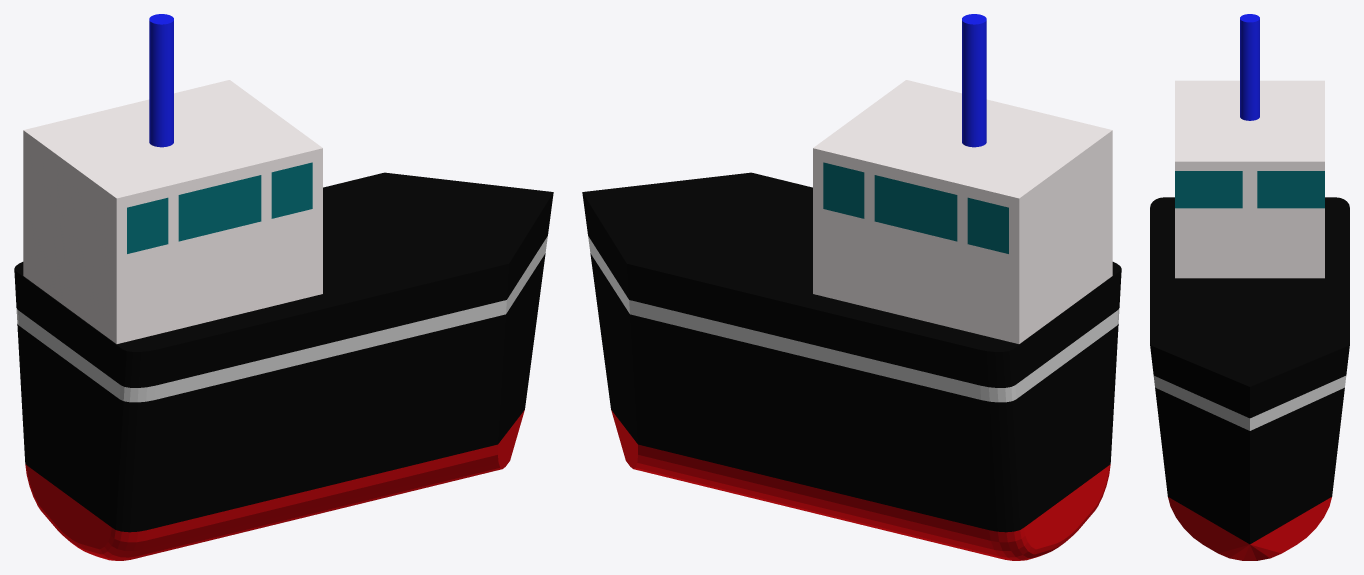
The model's file is Tugboat.fbx.
3 renders of one model, left to right at view 1: azimuth 30°, elevation 25°; view 2: azimuth 150°, elevation 25°; view 3: azimuth 270°, elevation 25°, orthographic. The views are drawn at different scales.
Parts seen in each view (by area): view 1: Boat, Cube, Cylinder; view 2: Boat, Cube, Cylinder; view 3: Boat, Cube, Cylinder.
Boxes of the visible parts, box(x1,y1,x2,y2) form: Boat: box(14, 172, 553, 560); Cube: box(23, 80, 322, 343); Cylinder: box(149, 14, 173, 147); Boat: box(582, 172, 1121, 560); Cube: box(813, 80, 1112, 343); Cylinder: box(962, 14, 986, 147); Boat: box(1150, 197, 1349, 560); Cube: box(1175, 80, 1324, 278); Cylinder: box(1240, 14, 1259, 120).
Bounding box in the file's own units: 1796 × 1809 × 800.
